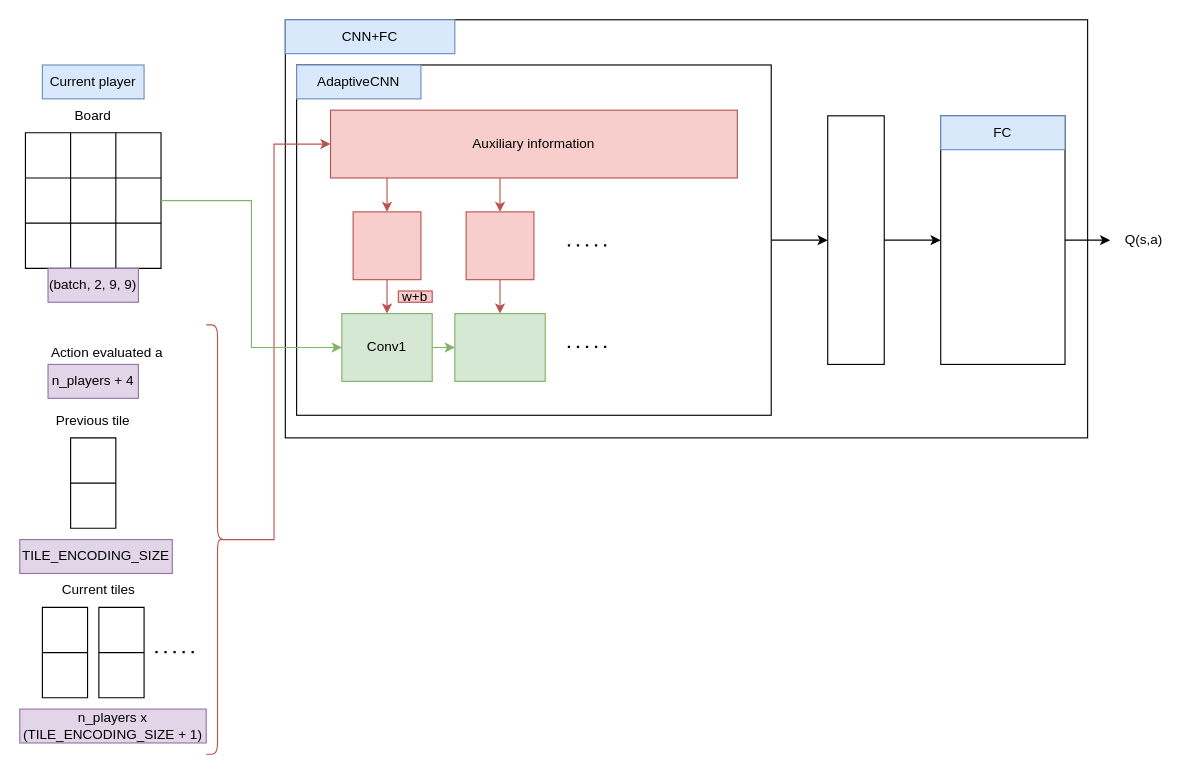
The diagram is 1198 pixels wide and 774 high, and some of its shapes have lost their labels. The shapes that lost their labels are listed below. From the top down, each one's centre as x and y in pixels, then its label:
At [386,245]: "FMN1".
At [499,245]: "FMN2".
At [499,346]: "Conv2".
